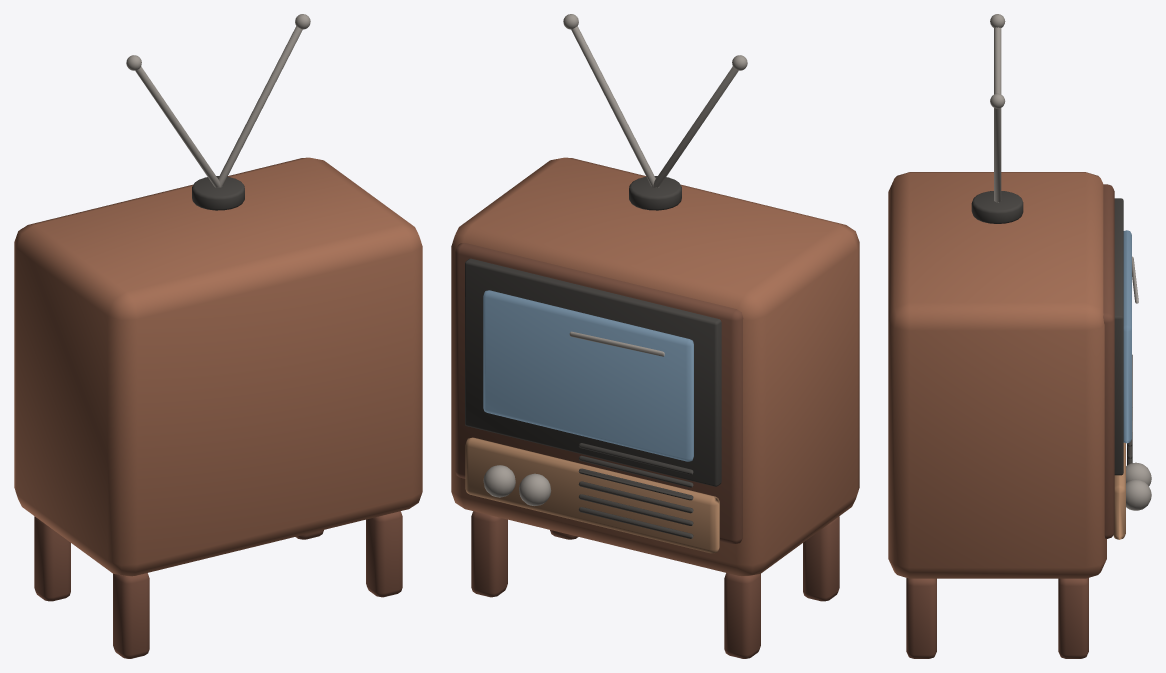
Rendered from old-tv.glb.
3 renders of one model, left to right at view 1: azimuth 30°, elevation 25°; view 2: azimuth 150°, elevation 25°; view 3: azimuth 270°, elevation 25°, orthographic. The views are drawn at different scales.
Visible parts, largest first — view 1: cabinet, merged_wood_dark, merged_metal_light, merged_soot; view 2: cabinet, screen, merged_soot, merged_wood_dark, control-panel, merged_metal_light; view 3: cabinet, merged_wood_dark, merged_soot, merged_metal_light, screen, control-panel.
Boxes of the visible parts, <box> form: cabinet: <box>14,157,422,576</box>; merged_wood_dark: <box>20,228,402,658</box>; merged_metal_light: <box>126,14,310,187</box>; merged_soot: <box>192,176,244,210</box>; cabinet: <box>451,157,859,576</box>; screen: <box>483,290,693,461</box>; merged_soot: <box>465,176,721,538</box>; merged_wood_dark: <box>455,243,839,658</box>; control-panel: <box>465,437,719,553</box>; merged_metal_light: <box>483,14,747,505</box>; cabinet: <box>888,172,1106,578</box>; merged_wood_dark: <box>906,184,1114,658</box>; merged_soot: <box>971,191,1132,475</box>; merged_metal_light: <box>990,14,1151,510</box>; screen: <box>1123,230,1131,443</box>; control-panel: <box>1113,442,1125,539</box>.
Size of the model in its own units: 1.15 by 1.97 by 0.867.
